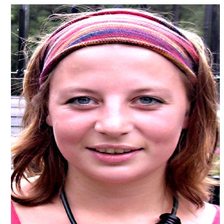no_mask: (52, 58, 184, 175)
